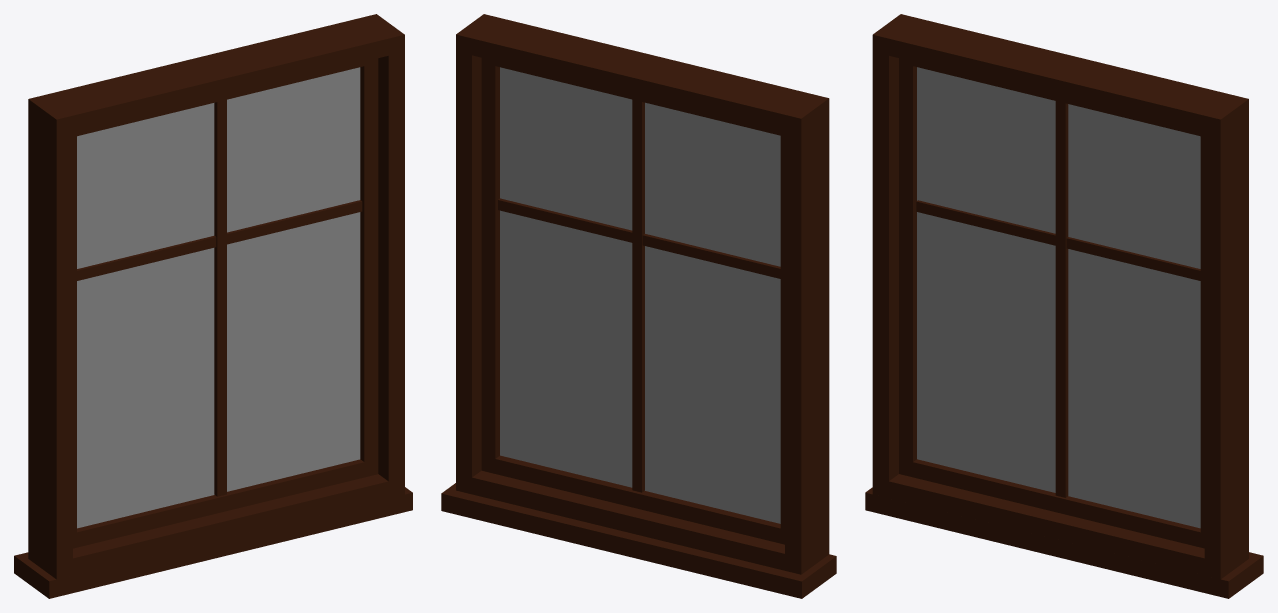
Rendered from window.fbx.
The picture shows the model from 3 angles, left to right: view 1: azimuth 30°, elevation 25°; view 2: azimuth 150°, elevation 25°; view 3: azimuth 330°, elevation 25°; orthographic projection.
Parts seen in each view (by area): view 1: Glass_001, Window_001, Frame_001; view 2: Glass_001, Window_001, Frame_001; view 3: Glass_001, Window_001, Frame_001.
Part boxes in pixels (x1,y1,x2,y2): Glass_001: [77, 67, 360, 528]; Window_001: [28, 14, 404, 579]; Frame_001: [14, 487, 412, 598]; Glass_001: [500, 67, 780, 523]; Window_001: [456, 14, 829, 574]; Frame_001: [441, 483, 836, 598]; Glass_001: [917, 67, 1200, 528]; Window_001: [872, 14, 1248, 579]; Frame_001: [865, 487, 1263, 598].
Bounding box in the file's own units: 1.59 × 2 × 0.2661.
